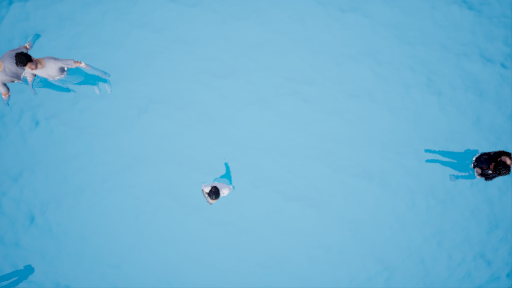person: (1, 36, 115, 109), (423, 145, 512, 187), (197, 154, 240, 208)
